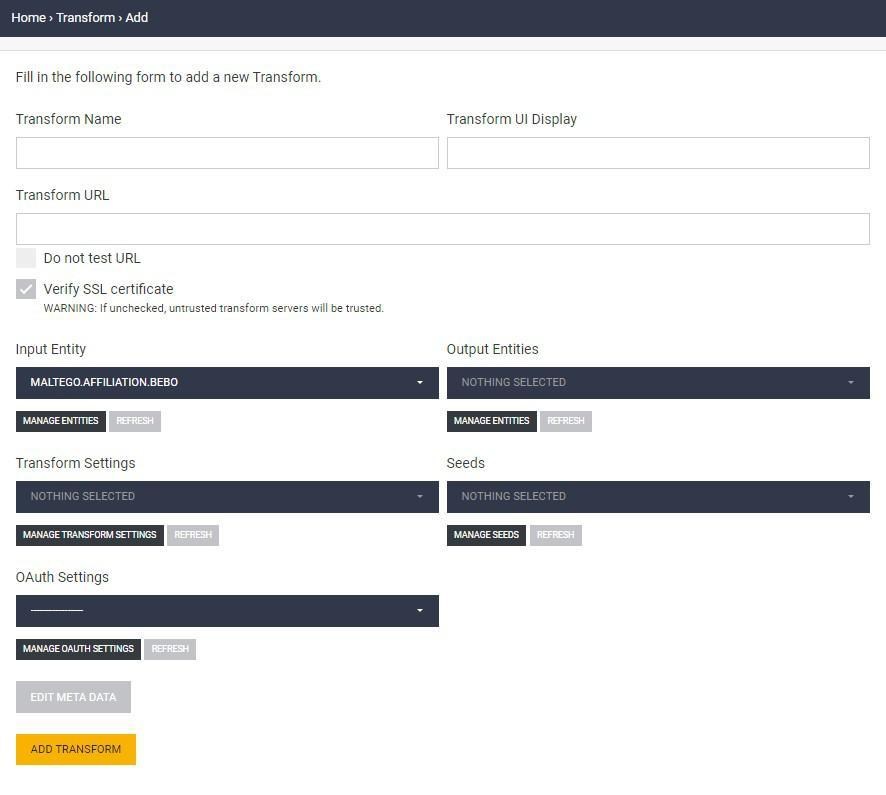button: (16, 680, 133, 715), (14, 734, 138, 767), (18, 526, 164, 548), (18, 640, 142, 660), (16, 412, 105, 434), (448, 525, 528, 547), (448, 413, 537, 432), (530, 526, 583, 546), (146, 641, 196, 660), (542, 412, 589, 432), (169, 527, 217, 546), (112, 414, 162, 432)
checkbox: (12, 279, 40, 304), (13, 248, 41, 271)
dropdown: (17, 366, 439, 403), (447, 368, 870, 403), (17, 594, 440, 628), (451, 481, 871, 515), (18, 482, 439, 515)
input: (16, 213, 870, 245), (18, 133, 441, 172), (448, 137, 871, 171)
label: (42, 280, 178, 302), (22, 454, 142, 476), (14, 182, 115, 208), (10, 565, 112, 589), (448, 112, 589, 129), (16, 110, 128, 131), (41, 251, 147, 272), (449, 341, 548, 363), (14, 339, 94, 362), (445, 450, 502, 473)
